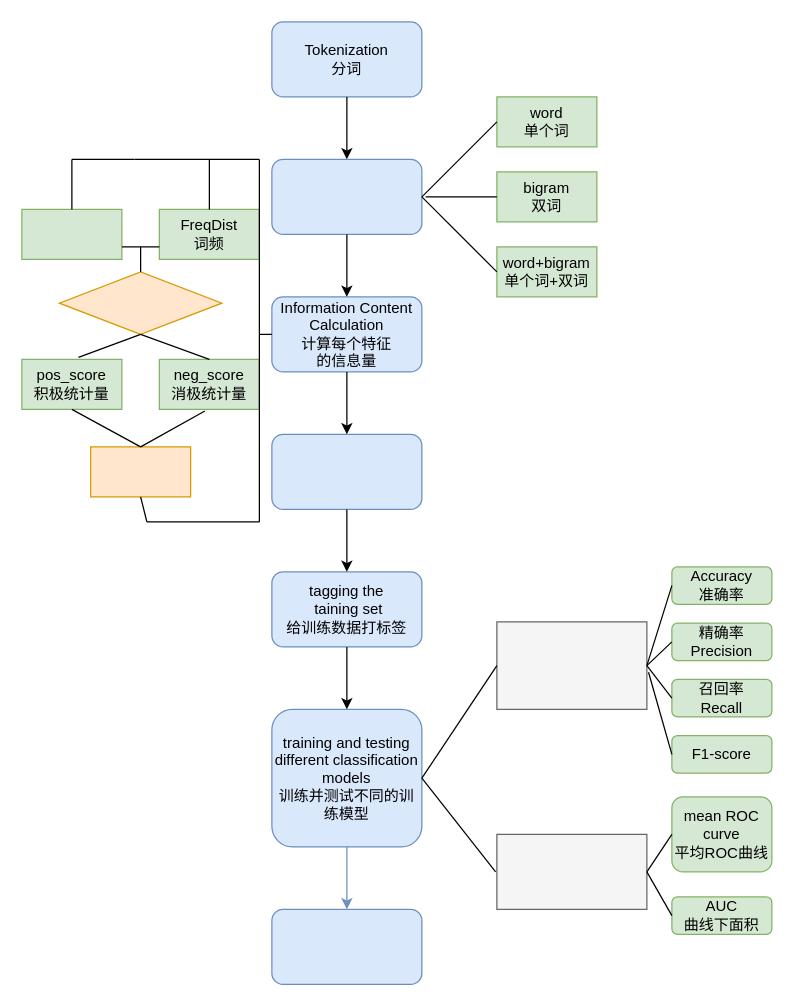
This 794x1006 diagram has some shape labels left out. The shapes that lost their labels are listed below. From the top down, each one's centre as x and y in pixels, then its label:
(x=346, y=196): Feature Extraction 特征提取
(x=71, y=233): Conditional FreqDist 条件词频
(x=140, y=302): chi_sq 卡方统计
(x=140, y=471): sum 求和
(x=346, y=471): sorting 对每个特征按 信息量排序
(x=571, y=665): export detailed results in compare.xls 导出详细的 excel比较文件
(x=571, y=871): plot ROC digrams 绘制ROC图表
(x=346, y=946): chose the optimal model 分析选择选择 最好的方案
